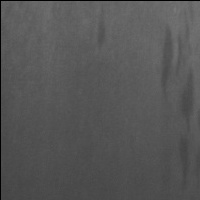inclusion: (158, 12, 199, 192), (85, 6, 110, 51)
